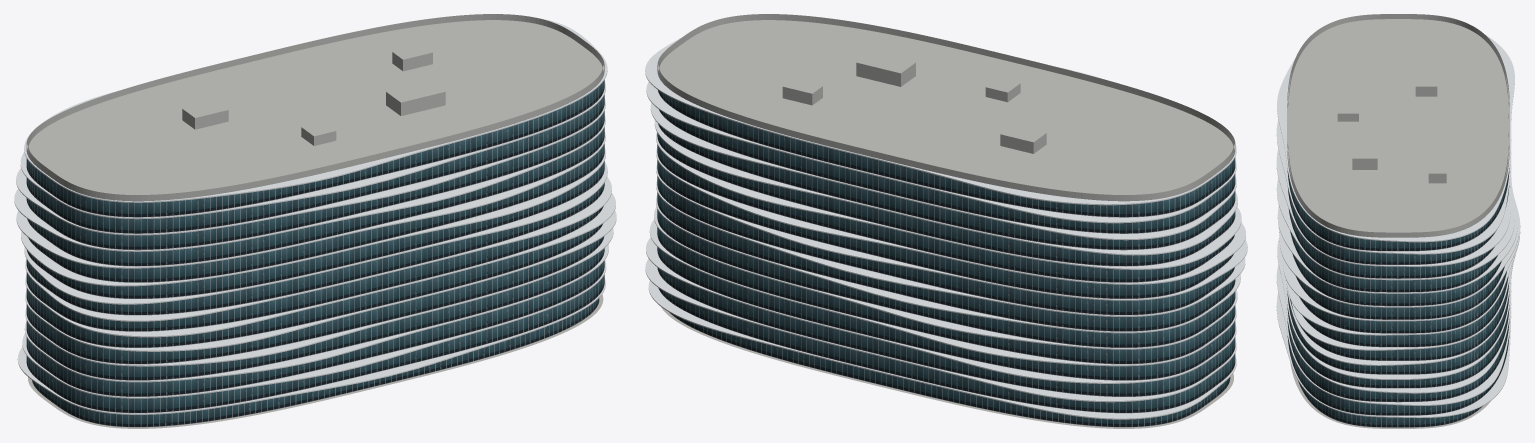
File: twa.glb
The picture shows the model from 3 angles, left to right: view 1: azimuth 30°, elevation 25°; view 2: azimuth 150°, elevation 25°; view 3: azimuth 270°, elevation 25°; orthographic projection. The views are drawn at different scales.
Parts seen in each view (by area): view 1: Tower A · floors 1–14 glass, Tower A roof, Tower A · floors 1–14 louvres, Tower A · floors 1–14 slabs; view 2: Tower A · floors 1–14 glass, Tower A roof, Tower A · floors 1–14 louvres, Tower A · floors 1–14 slabs; view 3: Tower A roof, Tower A · floors 1–14 glass, Tower A · floors 1–14 louvres, Tower A · floors 1–14 slabs.
Boxes of the visible parts, bbox=[...] form: Tower A · floors 1–14 glass: bbox=[26, 80, 604, 427]; Tower A roof: bbox=[26, 14, 604, 200]; Tower A · floors 1–14 louvres: bbox=[14, 18, 616, 414]; Tower A · floors 1–14 slabs: bbox=[28, 294, 603, 428]; Tower A · floors 1–14 glass: bbox=[657, 84, 1235, 427]; Tower A roof: bbox=[657, 14, 1235, 200]; Tower A · floors 1–14 louvres: bbox=[645, 37, 1247, 419]; Tower A · floors 1–14 slabs: bbox=[661, 307, 1233, 428]; Tower A roof: bbox=[1287, 14, 1509, 237]; Tower A · floors 1–14 glass: bbox=[1287, 168, 1509, 427]; Tower A · floors 1–14 louvres: bbox=[1276, 34, 1520, 417]; Tower A · floors 1–14 slabs: bbox=[1290, 361, 1491, 428].
Bounding box in the file's own units: 150 × 62.3 × 67.79.
3 materials, 1 textured.
